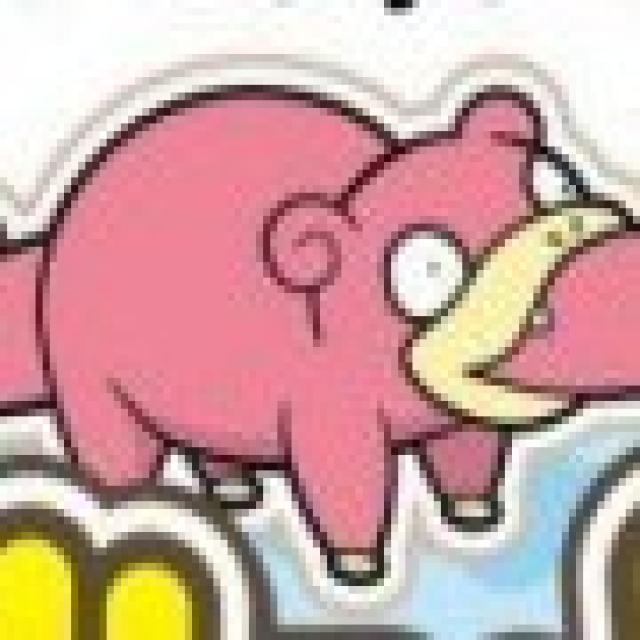Slowpoke: (49, 79, 624, 497)
